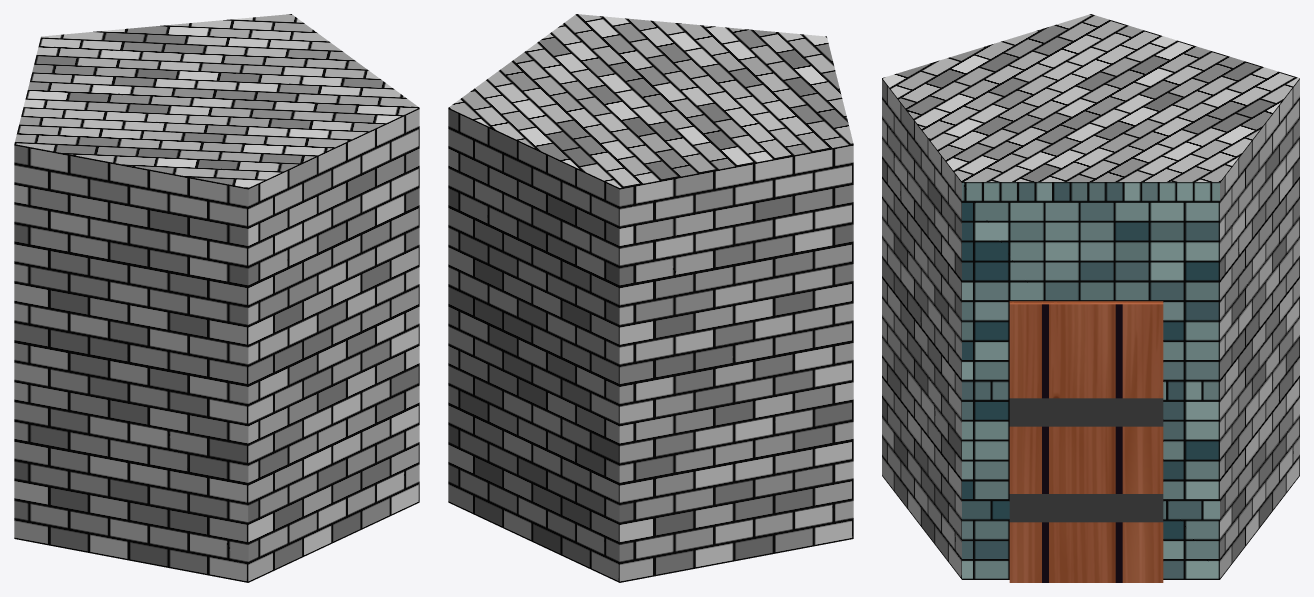
File: training2.glb
3 views of the same model, side by side, from view 1: azimuth 30°, elevation 25°; view 2: azimuth 150°, elevation 25°; view 3: azimuth 270°, elevation 25° (orthographic).
Parts seen in each view (by area): view 1: Cylinder; view 2: Cylinder; view 3: Cylinder, Cube.
Boxes of the visible parts, x1=… form: Cylinder: x1=14, y1=14, x2=419, y2=582; Cylinder: x1=448, y1=14, x2=853, y2=582; Cylinder: x1=882, y1=14, x2=1299, y2=579; Cube: x1=1009, y1=301, x2=1163, y2=582.
Size of the model in its own units: 1.84 by 2 by 1.9.
5 materials, 3 textured.
